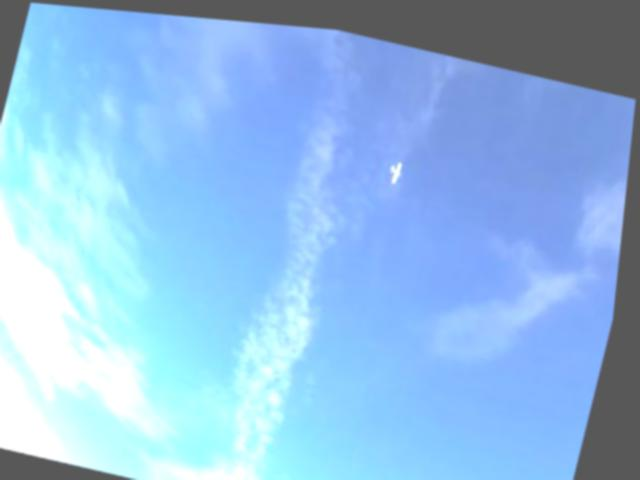uav: (382, 143, 418, 184)
